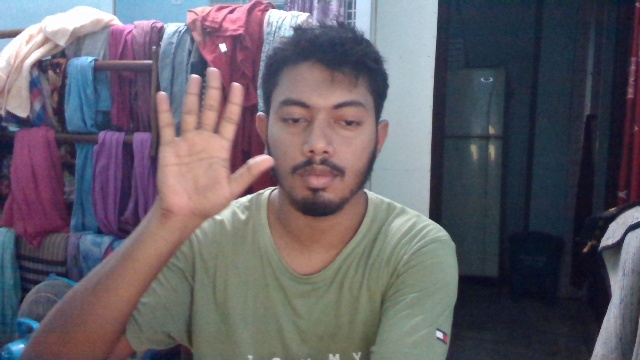hello: (147, 61, 274, 220)
